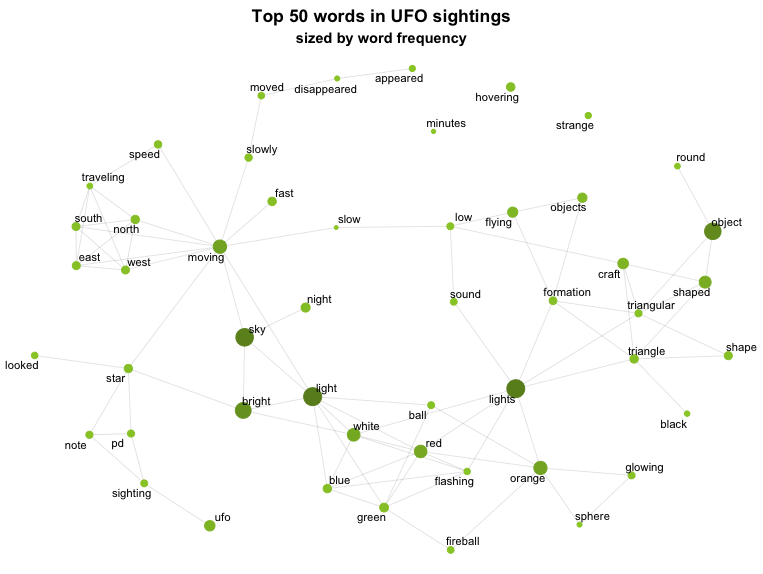

What the dashboard file says about the page in this screenshot:
{"tool":"tableau","page":{"name":"Dashboard 1","canvas":[1000,1000],"units":"permille","ordinal":0},"visuals":[{"type":"worksheet","title":"All","mark":"Circle","rows":["lat"],"cols":["lon"],"box":[4.7,8.5,897,983]},{"type":"filter","title":"All","param":"[federated.1927uhd1qy7aqd1f6aa2719t1xgz].[none:lease:nk]","box":[901.7,8.5,93.6,195.1]},{"type":"filter","title":"All","param":"[federated.1927uhd1qy7aqd1f6aa2719t1xgz].[none:Ascendas_Building:nk]","box":[901.7,203.6,93.6,94.4]},{"type":"legend","title":"All","param":"[federated.1927uhd1qy7aqd1f6aa2719t1xgz].[none:Property Type:nk]","box":[901.7,298,93.6,133.6]},{"type":"legend","title":"All","param":"[federated.1927uhd1qy7aqd1f6aa2719t1xgz].[none:psf:qk]","box":[901.7,431.6,93.6,133.6]}]}

Visuals, with their boxes on the dashboard's canvas, which has no fixed pixel size, in thousandths of its width and height (x1, y1, x2, y2). These are canvas units, not pixel positions in the 763x574 screenshot, which may show the page scaled, cropped or inside an application window:
"All" worksheet (Circle marks): x1=5, y1=8, x2=902, y2=992
"All" filter: x1=902, y1=8, x2=995, y2=204
"All" filter: x1=902, y1=204, x2=995, y2=298
"All" legend: x1=902, y1=298, x2=995, y2=432
"All" legend: x1=902, y1=432, x2=995, y2=565
